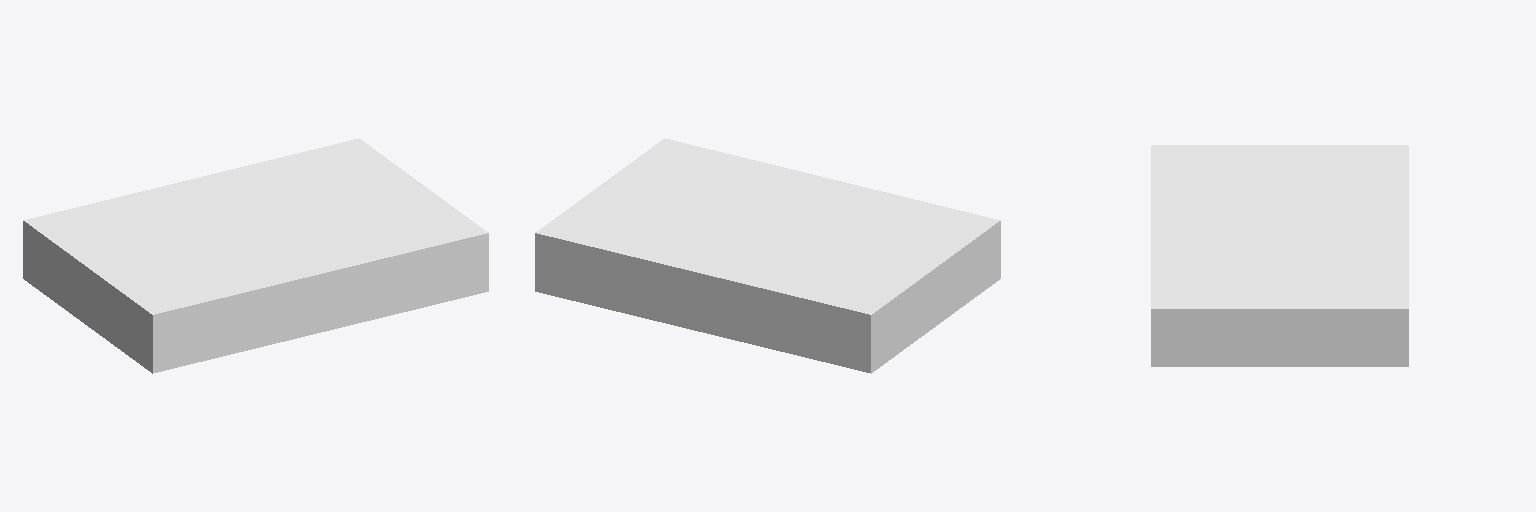
File: F_Garbage5.obj
3 views of the same model, side by side, from view 1: azimuth 30°, elevation 25°; view 2: azimuth 150°, elevation 25°; view 3: azimuth 270°, elevation 25° (orthographic).
Parts seen in each view (by area): view 1: F_Garbage5; view 2: F_Garbage5; view 3: F_Garbage5.
Part boxes in pixels (bbox=[...]): F_Garbage5: bbox=[23, 138, 488, 373]; F_Garbage5: bbox=[535, 138, 1000, 373]; F_Garbage5: bbox=[1151, 145, 1408, 366].
Size of the model in its own units: 0.6 by 0.1 by 0.4.